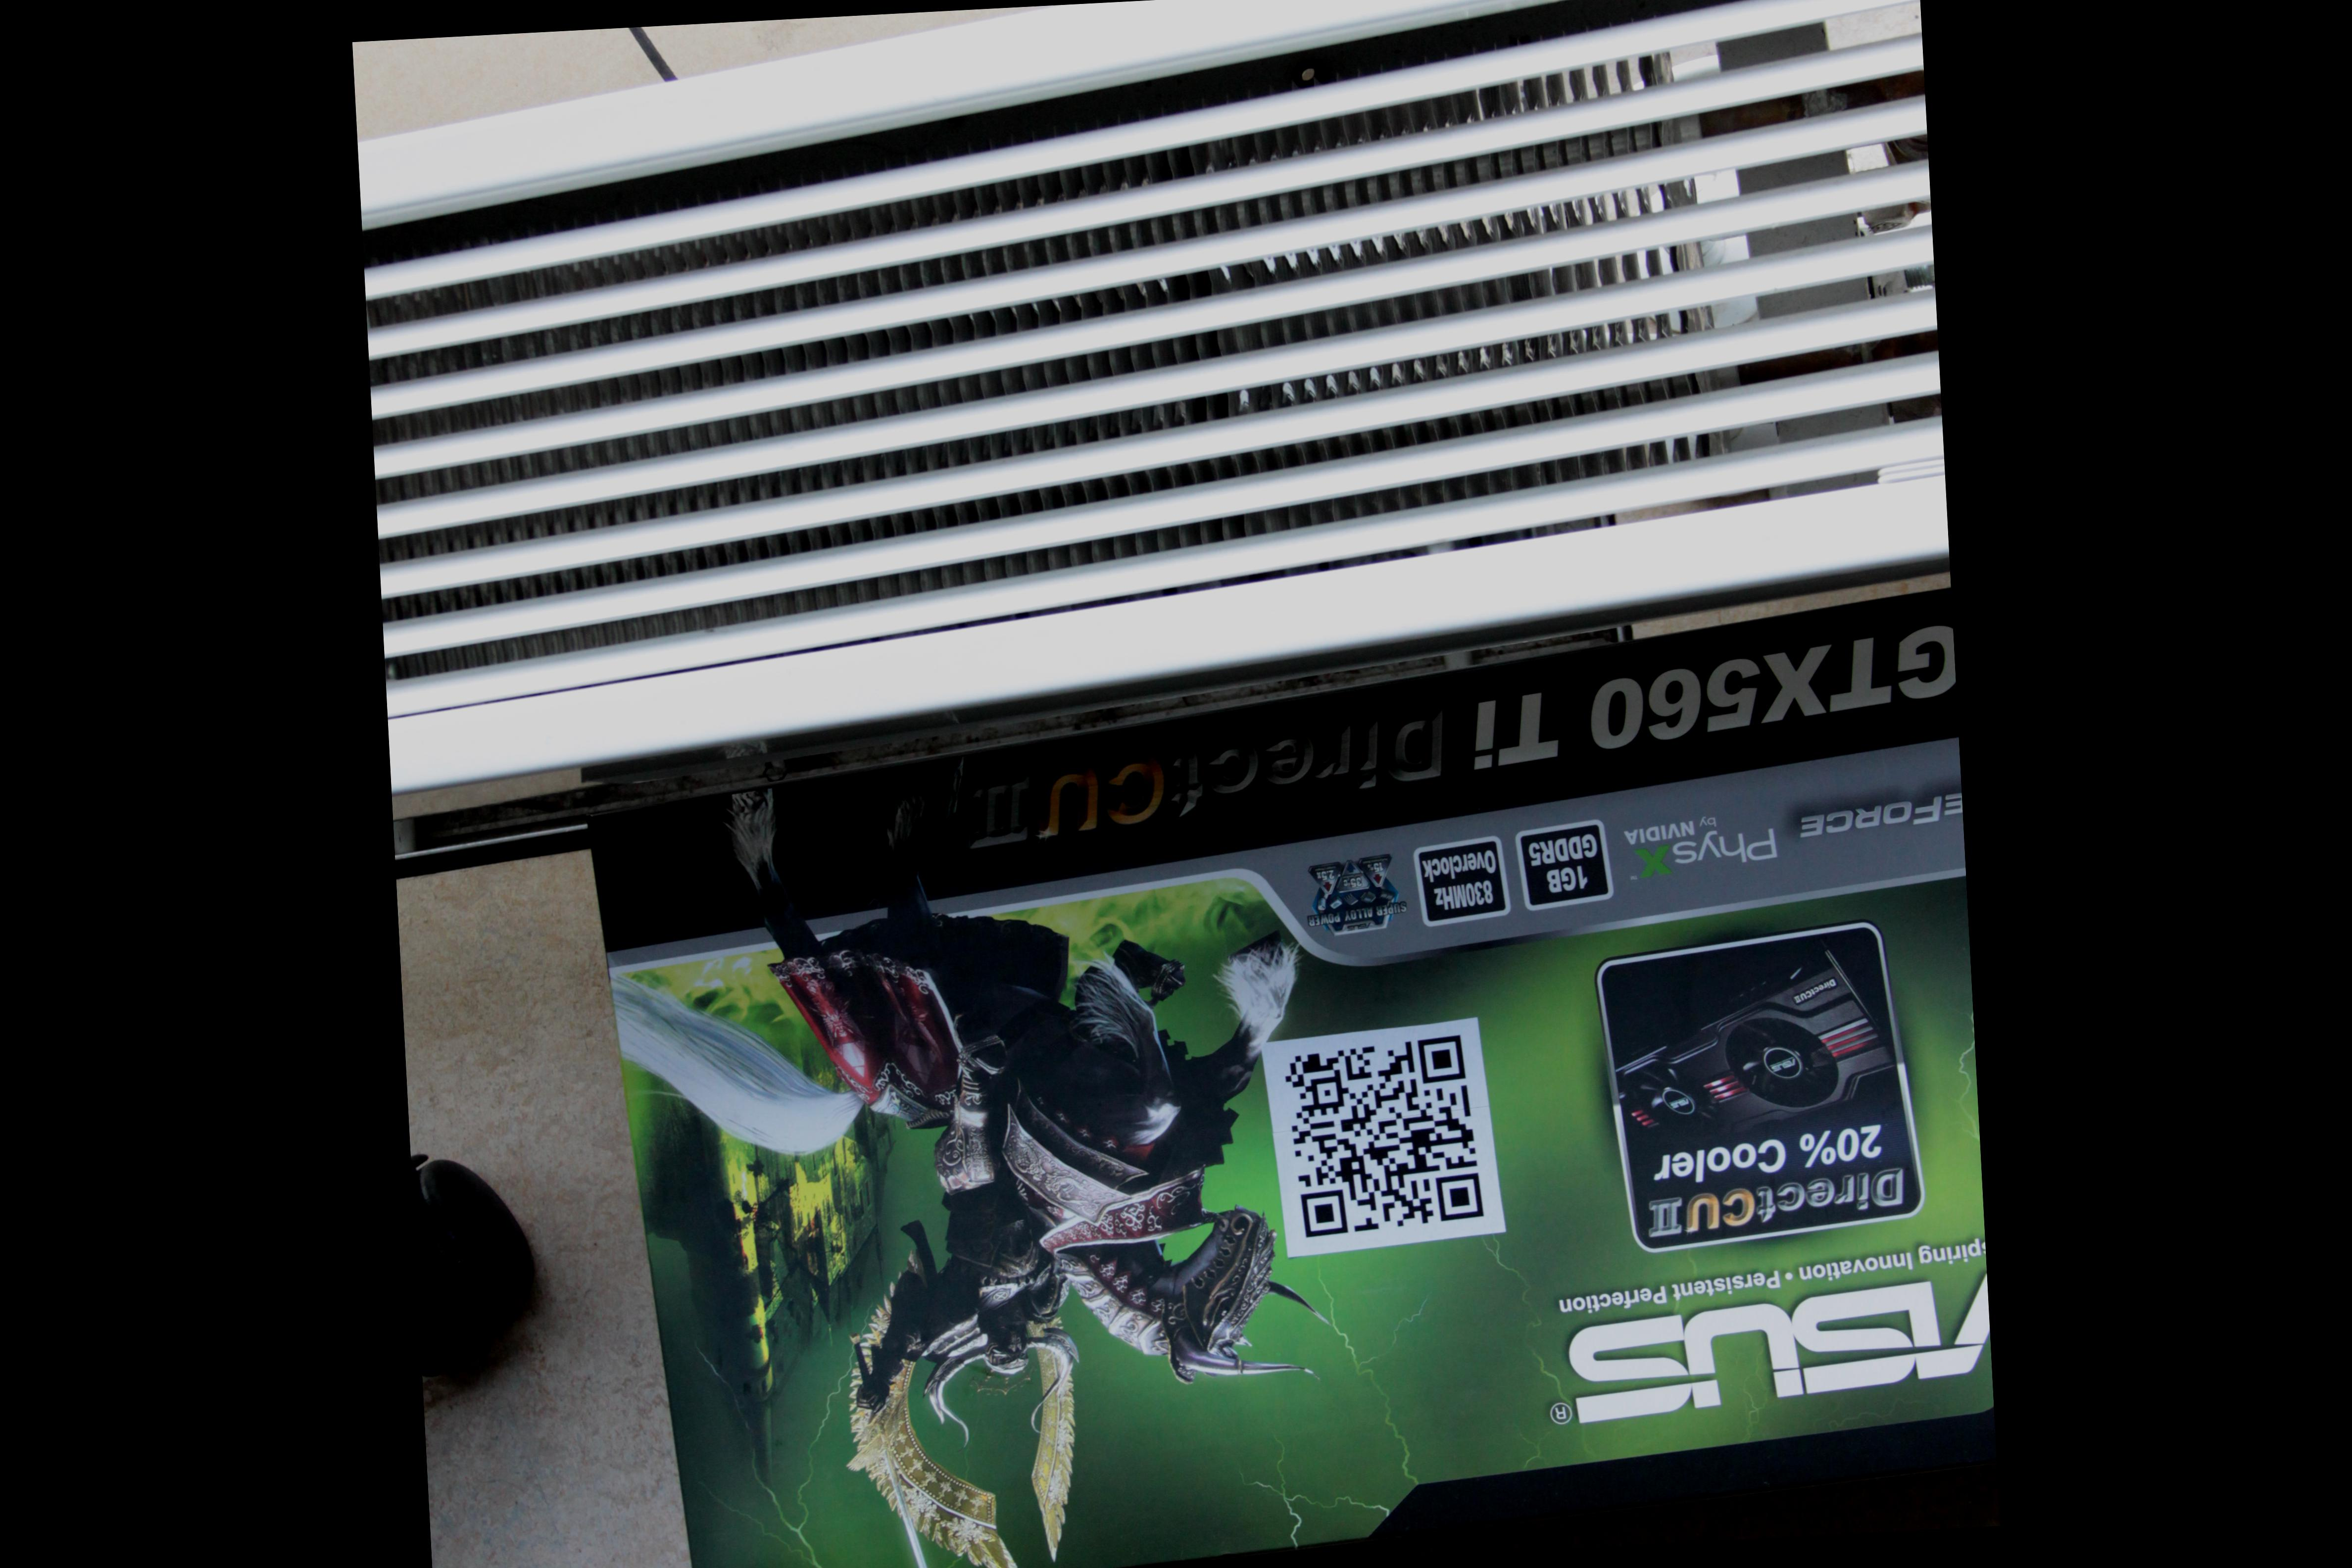QR: (1260, 1011, 1515, 1267)
